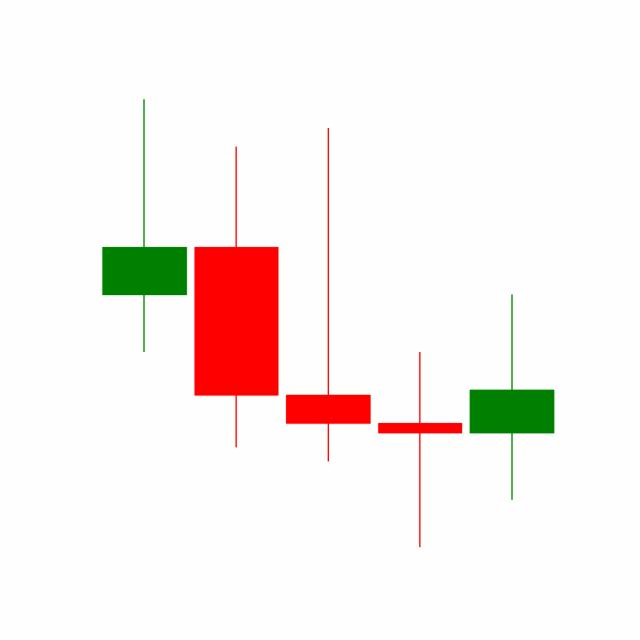Spinning Top: (373, 349, 467, 549)
